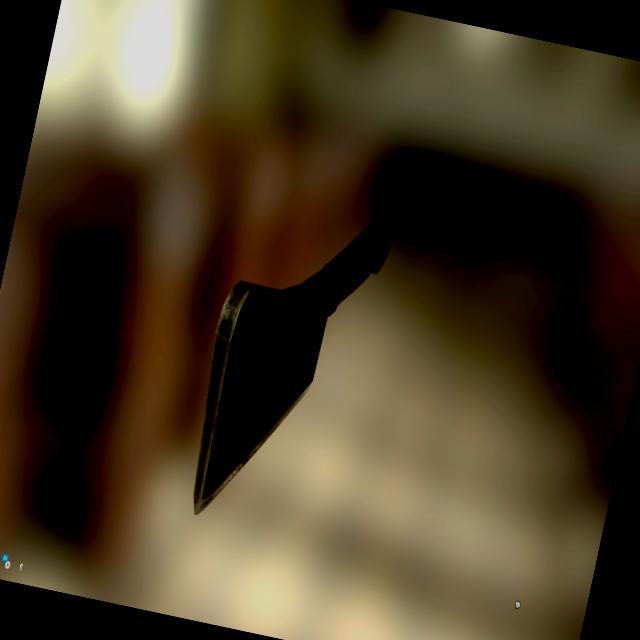cleaver: (180, 187, 396, 542)
